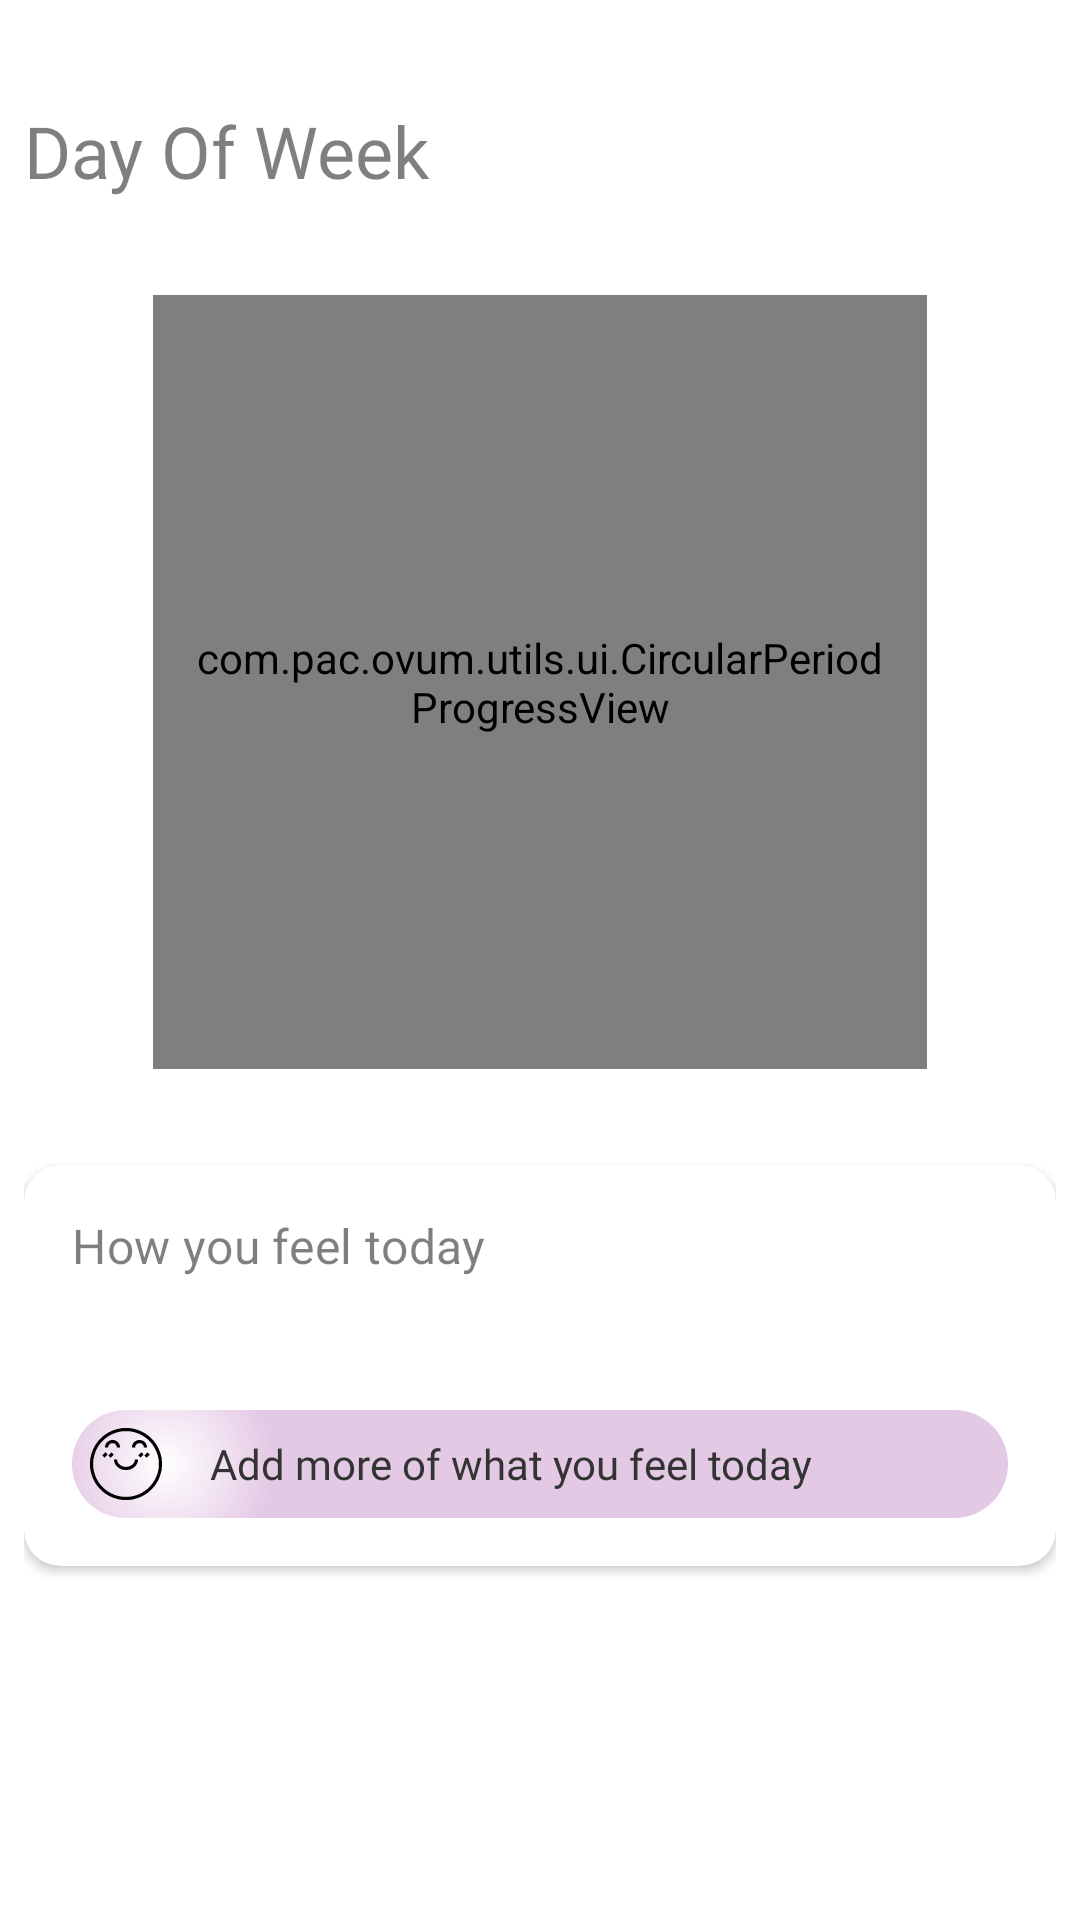

Icons on this 1080w x 1920h Android screen, each with the point to tap as (x,y):
shy: (126,1464)
